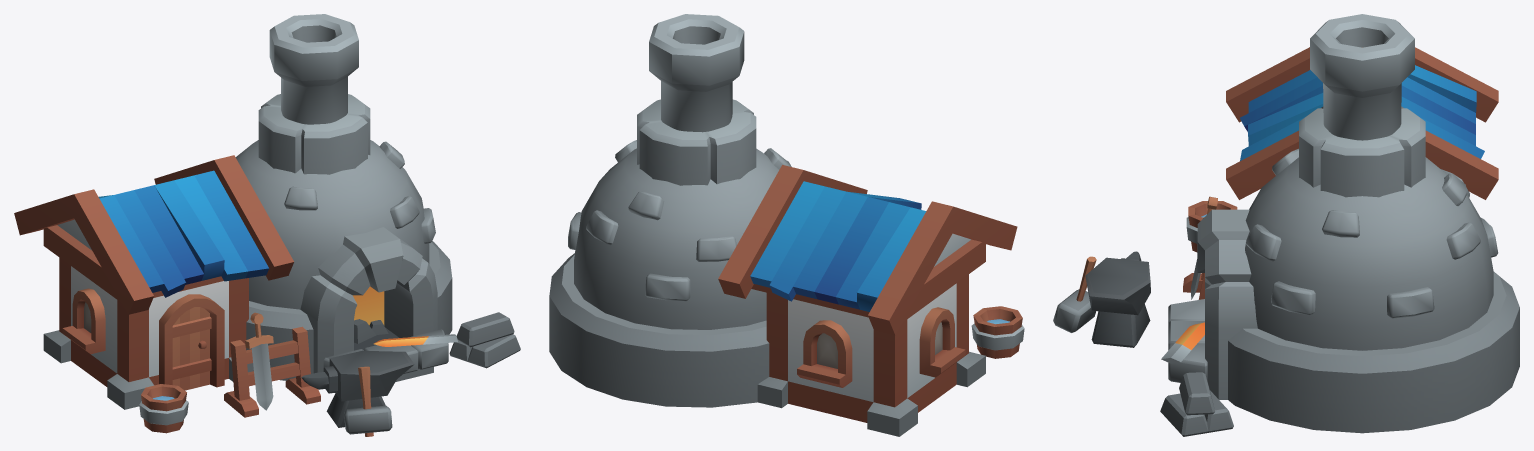
The model's file is building_blacksmith_blue.gltf.
3 renders of one model, left to right at view 1: azimuth 30°, elevation 25°; view 2: azimuth 150°, elevation 25°; view 3: azimuth 270°, elevation 25°, orthographic. The views are drawn at different scales.
Visible parts, largest first — view 1: building_blacksmith_blue; view 2: building_blacksmith_blue; view 3: building_blacksmith_blue.
Boxes of the visible parts, bbox=[...] form: building_blacksmith_blue: bbox=[14, 14, 520, 436]; building_blacksmith_blue: bbox=[549, 14, 1024, 436]; building_blacksmith_blue: bbox=[1053, 14, 1519, 436].
Bounding box in the file's own units: 1.29 × 0.9852 × 1.25.
Materials: 1 (1 with a texture image).
